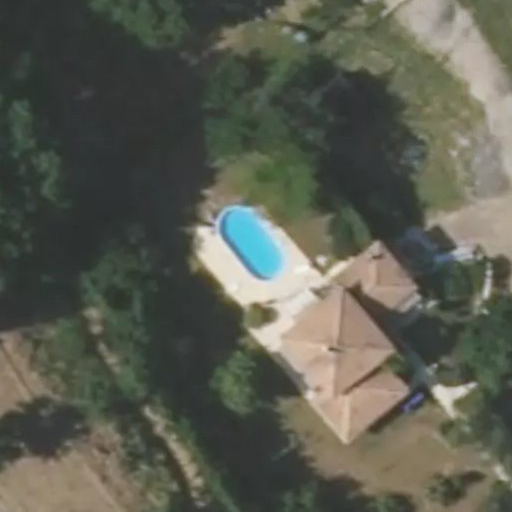pool: (214, 216, 297, 269)
